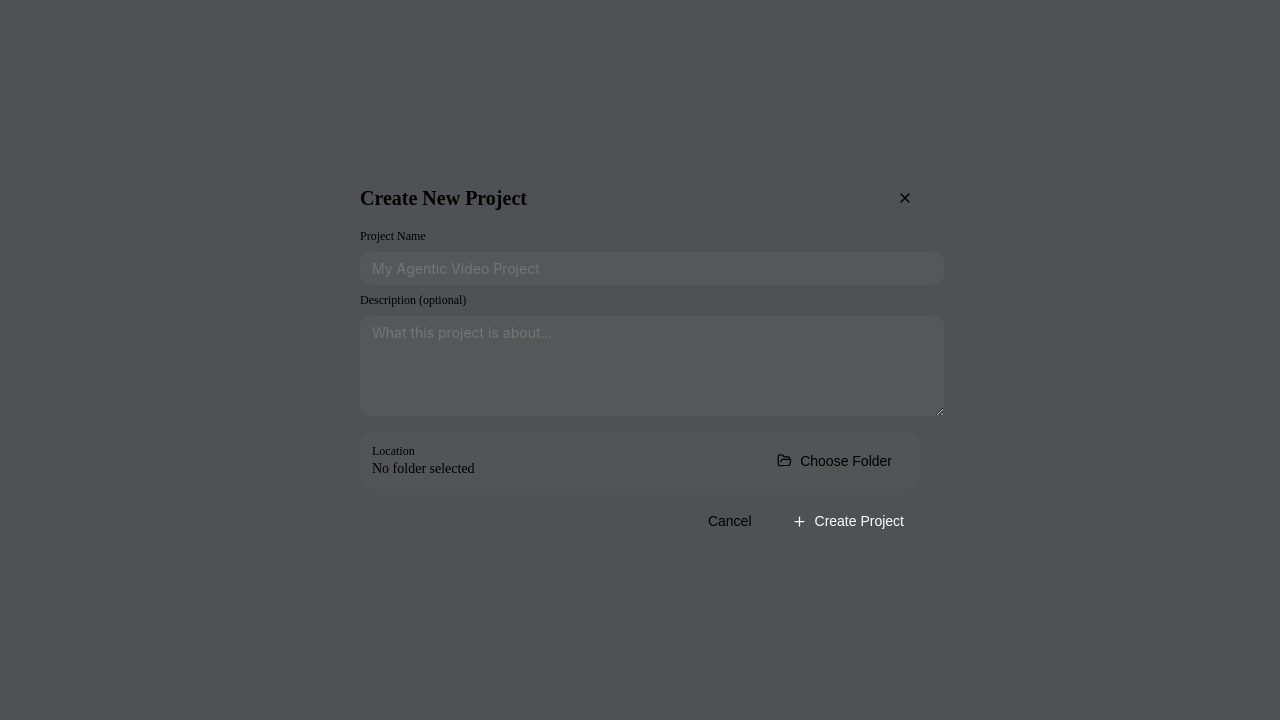
Test case: NewProjectDialog › shows an error when the target project name already exists
This screenshot has width=1280, height=720.
Type "demo" into the field named "Project name" at [652, 268], box [360,252,944,285]
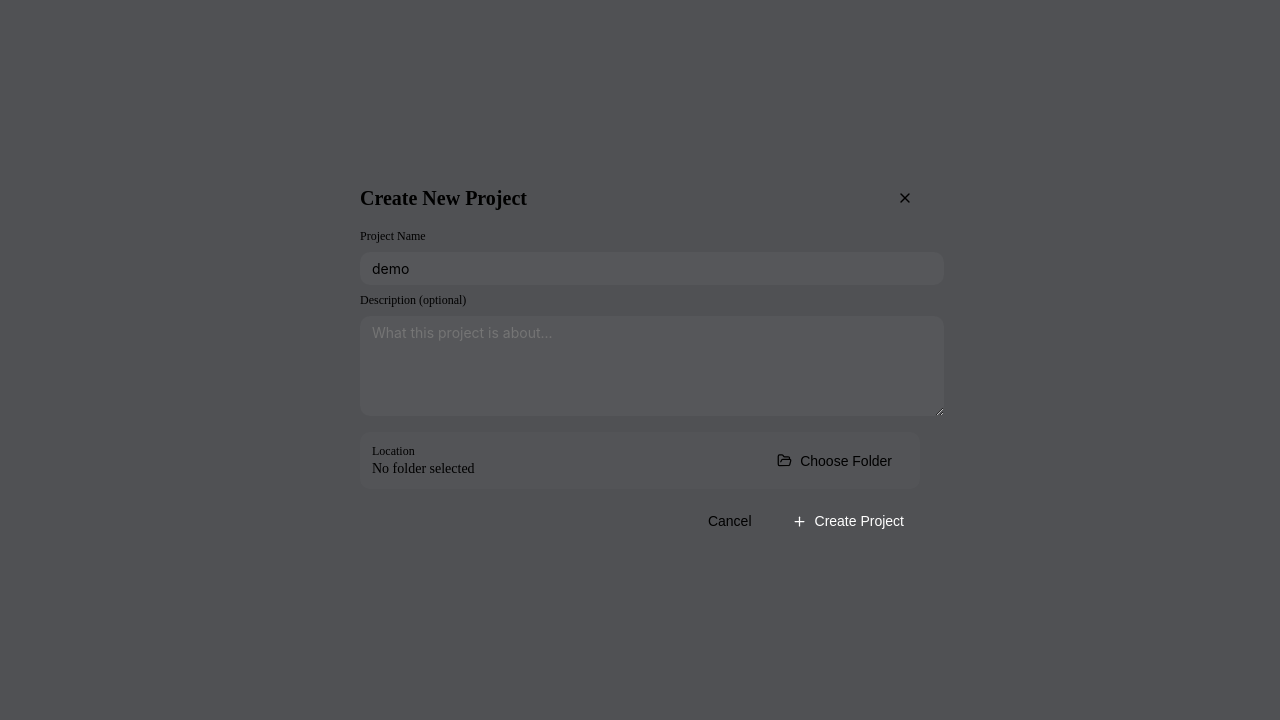
Click the button "Choose Folder" at [835, 460], box [761,444,908,476]
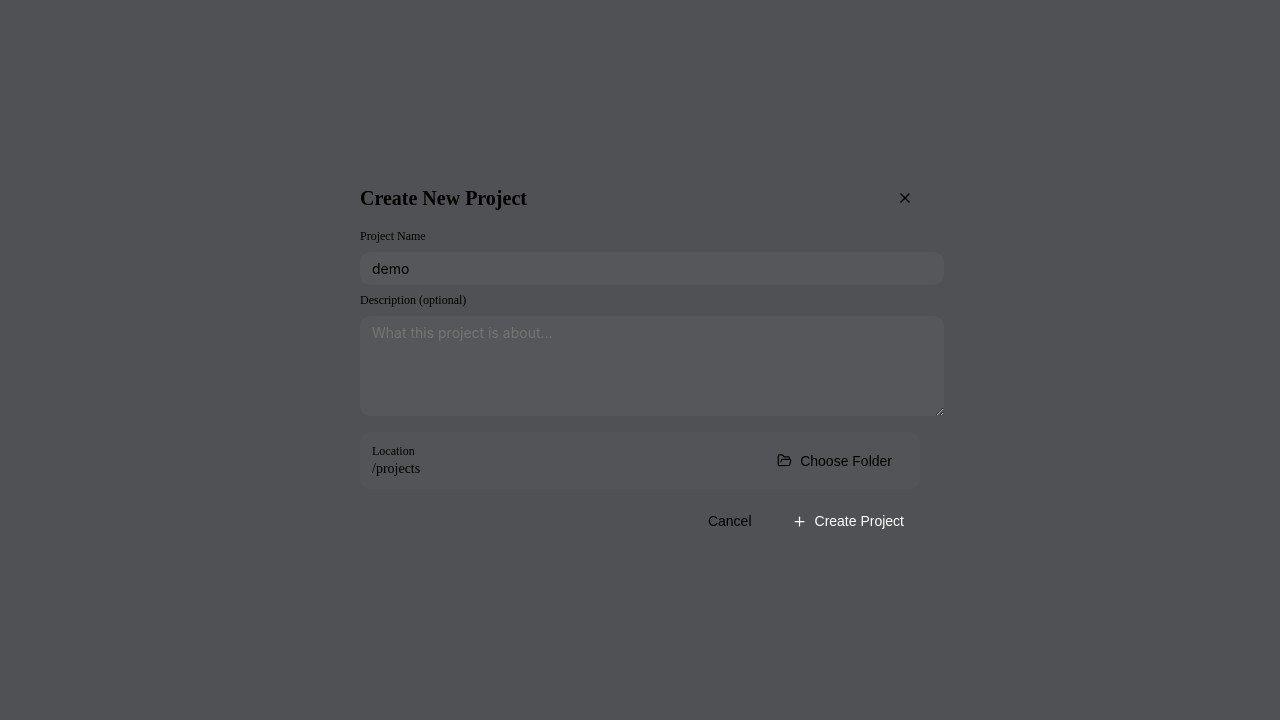
Result: the text "/projects" is shown at [372,461,420,477]
Click the button "Create Project" at [848, 521], box [776,505,920,537]
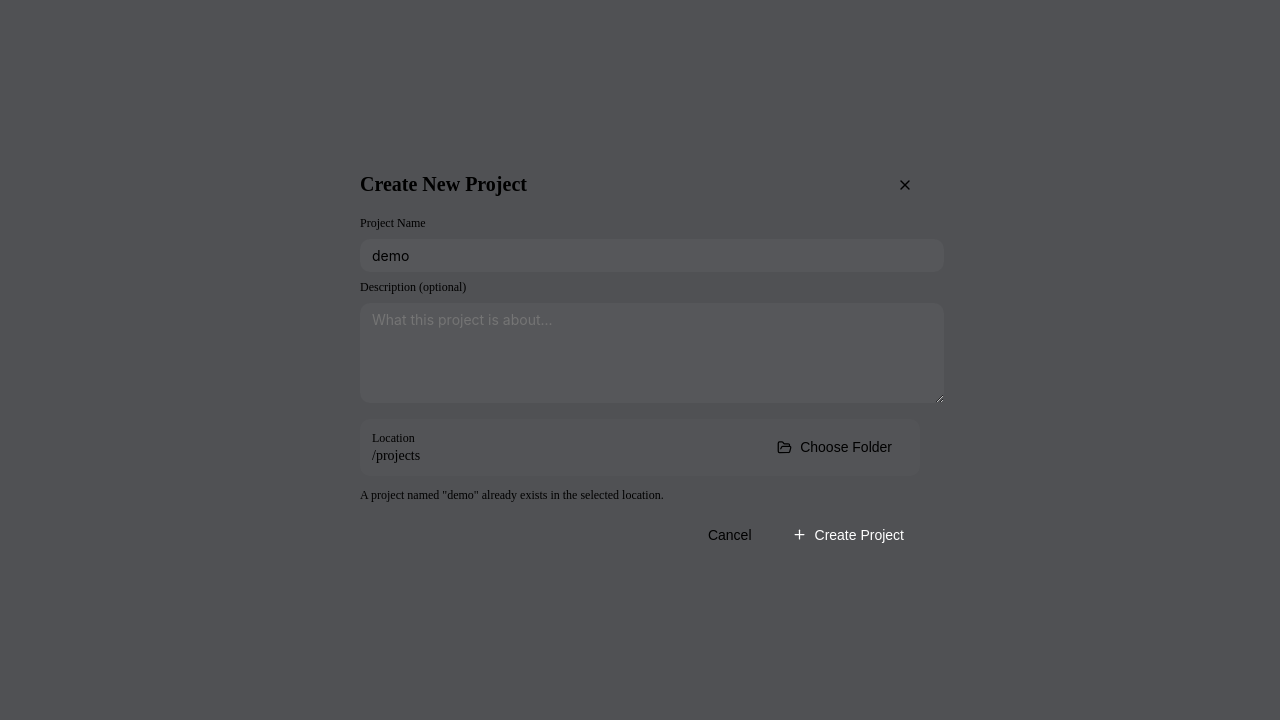
Result: the text "A project named \"demo\" already exists in the selected location." is shown at [360,488,664,502]
